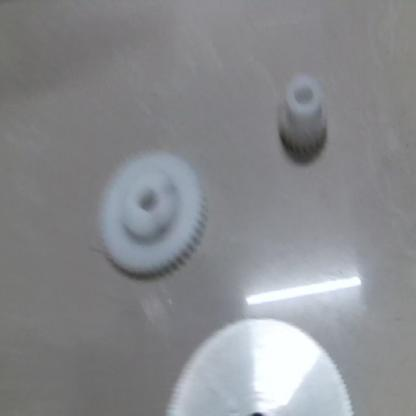FOD: (161, 313, 367, 415), (95, 138, 215, 289), (276, 74, 338, 159)
